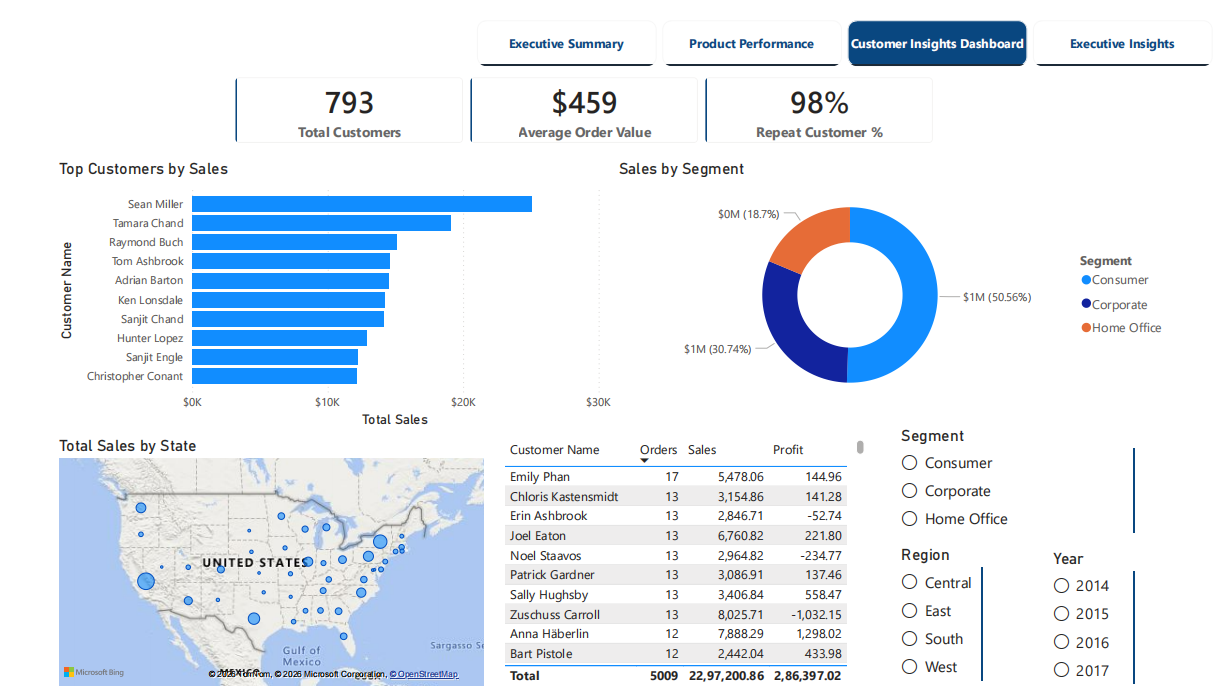

The page's visual inventory and layout, read from the dashboard file:
{"tool":"powerbi","page":{"name":"Customer Insights Dashboard","canvas":[1280,720],"ordinal":2},"visuals":[{"type":"cardVisual","fields":{"Data":["Customers.Total Customers","Orders.Average Order Value","Orders.Repeat Customer %"]},"box":[216.8,46.7,779.4,104.3],"z":0},{"type":"barChart","title":"Top Customers by Sales","fields":{"Category":["Customers.Customer Name"],"Y":["Orders.Total Sales"]},"box":[41.2,150.9,599.7,292.3],"z":1000},{"type":"donutChart","title":"Sales by Segment","fields":{"Category":["Customers.Segment"],"Y":["Orders.Total Sales"]},"box":[639.5,150.9,599.7,271.7],"z":2000},{"type":"map","fields":{"Category":["Customers.State"],"Size":["Orders.Total Sales"]},"box":[41.2,447.3,462.4,271.7],"z":3000},{"type":"tableEx","fields":{"Values":["Customers.Customer Name","Orders.Order ID","Sum(Orders.Sales)","Sum(Orders.Profit)"]},"box":[517.3,446.1,393.8,271.7],"z":4000},{"type":"listSlicer","fields":{"Values":["Regions.Region"]},"box":[941.3,564,109.8,155.1],"z":5000},{"type":"listSlicer","fields":{"Values":["Date Table.Year"]},"box":[1103.3,568.1,109.8,150.9],"z":6000},{"type":"listSlicer","fields":{"Values":["Customers.Segment"]},"box":[941.3,436.4,271.7,119.4],"z":7000},{"type":"pageNavigator","box":[492.3,2.7,787.7,49.4],"z":7001}]}

Visuals, with their boxes in screenshot pixels (x1, y1, x2, y2), scaled from the page's 1280x720 canvas onto the 1232x697 screenshot:
cardVisual - Customers.Total Customers x Orders.Average Order Value: (x1=209, y1=45, x2=959, y2=146)
"Top Customers by Sales" barChart: (x1=40, y1=146, x2=617, y2=429)
"Sales by Segment" donutChart: (x1=616, y1=146, x2=1193, y2=409)
map - Customers.State x Orders.Total Sales: (x1=40, y1=433, x2=485, y2=696)
tableEx - Customers.Customer Name x Orders.Order ID: (x1=498, y1=432, x2=877, y2=695)
listSlicer - Regions.Region: (x1=906, y1=546, x2=1012, y2=696)
listSlicer - Date Table.Year: (x1=1062, y1=550, x2=1168, y2=696)
listSlicer - Customers.Segment: (x1=906, y1=422, x2=1168, y2=538)
pageNavigator: (x1=474, y1=3, x2=1231, y2=50)
